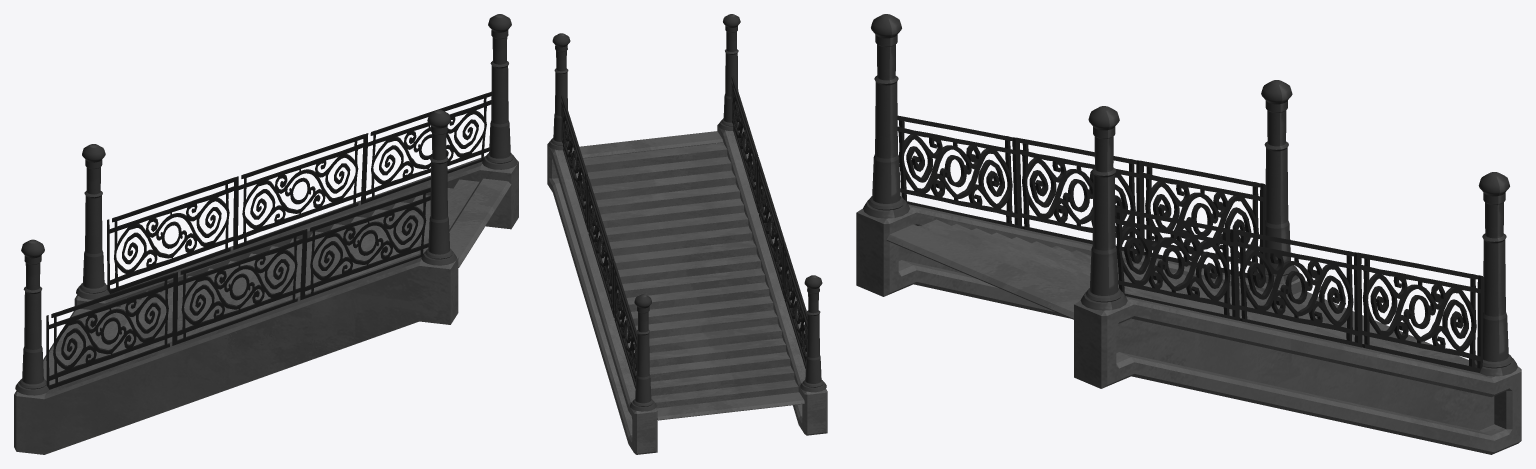
File: HoD_Stairs_Single (1).fbx
3 views of the same model, side by side, from view 1: azimuth 30°, elevation 25°; view 2: azimuth 150°, elevation 25°; view 3: azimuth 270°, elevation 25° (orthographic). The views are drawn at different scales.
Visible parts, largest first — view 1: Bannister (×2), railing13 (2), railing13 (1), Stairs_6Height, post12 (2), post15 (1), post14 (1), post13 (1), RimTop, RimBottom; view 2: Stairs_6Height, Bannister (×2), railing13 (2), railing13 (1), RimBottom, RimTop, post13 (1), post14 (1), post12 (2), post15 (1); view 3: Bannister (×2), railing13 (1), railing13 (2), Stairs_6Height, post12 (2), post15 (1), RimTop, post13 (1), post14 (1), RimBottom.
Part boxes in pixels (box(x1,y1,x2,y2)): Bannister (×2): box(14, 156, 518, 454); railing13 (2): box(46, 187, 430, 389); railing13 (1): box(107, 91, 491, 293); Stairs_6Height: box(58, 179, 479, 381); post12 (2): box(482, 14, 517, 169); post15 (1): box(421, 109, 456, 265); post14 (1): box(15, 239, 49, 395); post13 (1): box(76, 144, 109, 299); RimTop: box(449, 178, 511, 267); RimBottom: box(43, 309, 100, 384); Stairs_6Height: box(583, 142, 798, 408); Bannister (×2): box(547, 124, 827, 454); railing13 (2): box(731, 76, 807, 368); railing13 (1): box(561, 95, 637, 388); RimBottom: box(656, 392, 804, 420); RimTop: box(579, 131, 722, 158); post13 (1): box(630, 294, 656, 411); post14 (1): box(800, 275, 826, 392); post12 (2): box(548, 33, 573, 150); post15 (1): box(718, 14, 743, 130); Bannister (×2): box(856, 201, 1521, 454); railing13 (1): box(1115, 207, 1483, 372); railing13 (2): box(897, 115, 1265, 280); Stairs_6Height: box(918, 219, 1425, 356); post12 (2): box(1080, 106, 1127, 310); post15 (1): box(863, 14, 909, 218); RimTop: box(886, 224, 1082, 319); post13 (1): box(1474, 172, 1517, 376); post14 (1): box(1257, 80, 1298, 284); RimBottom: box(1287, 291, 1468, 365).
Size of what is drawn, in the model's own units: 15.59 by 13.05 by 15.66.
